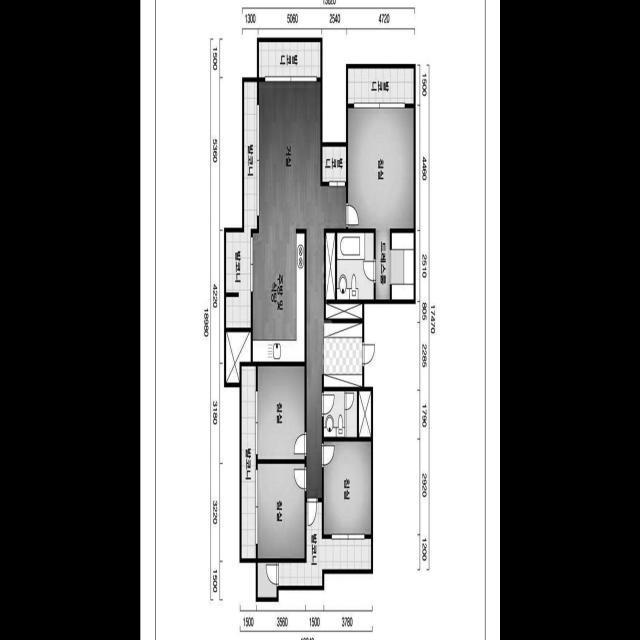background: (140, 0, 500, 640)
space_balconi: (278, 502, 371, 586), (226, 81, 257, 328), (241, 366, 256, 559), (348, 68, 413, 104), (259, 42, 320, 78), (322, 146, 346, 182)
space_bedroom: (348, 108, 413, 229), (323, 441, 371, 535), (257, 463, 304, 559), (257, 366, 304, 460)
space_dressroom: (375, 233, 414, 300)
space_front: (324, 323, 362, 387)
space_kitchen: (252, 233, 304, 362)
space_living_room: (259, 82, 346, 498)
space_other: (226, 331, 251, 383), (257, 562, 276, 598), (325, 233, 335, 300), (358, 391, 371, 437), (325, 303, 362, 319)
space_toilet: (337, 232, 374, 300), (323, 391, 357, 438)
